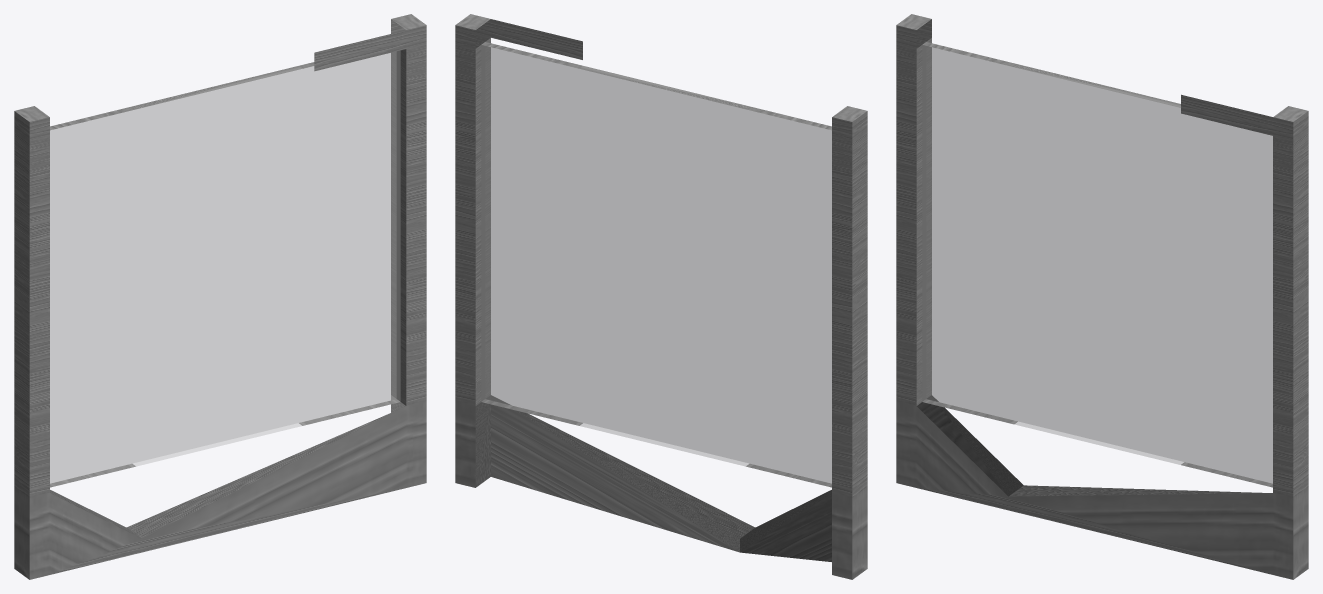
The model's file is door_morph_targets.gltf.
3 renders of one model, left to right at view 1: azimuth 30°, elevation 25°; view 2: azimuth 150°, elevation 25°; view 3: azimuth 330°, elevation 25°, orthographic.
Visible parts, largest first — view 1: Door; view 2: Door; view 3: Door.
Boxes of the visible parts, x1,y1,x2,y2 form: Door: (14, 14, 426, 579); Door: (455, 14, 867, 579); Door: (896, 14, 1308, 579).
Size of the model in its own units: 4.66 by 5.14 by 0.3117.
2 materials, 1 textured.
